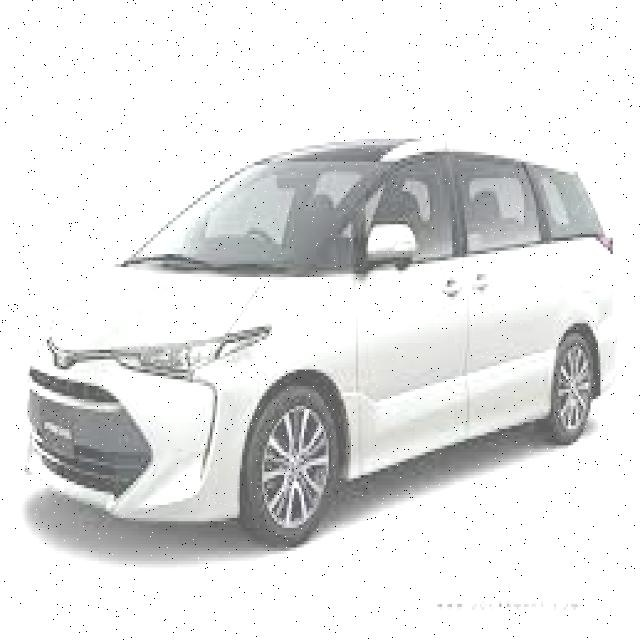Van: (17, 135, 613, 551)
